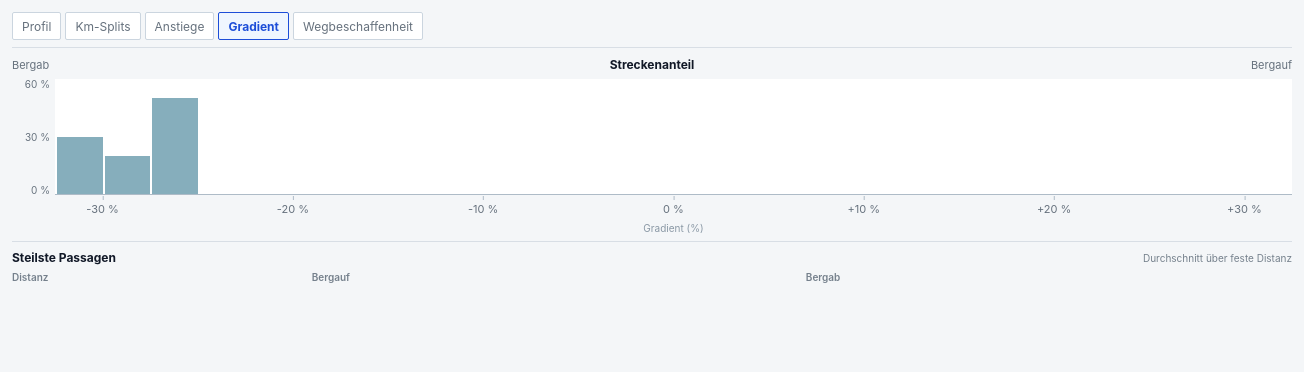
it: RouteAnalysis › combines selected gradient bins into route statistics
Click the button named "10 bis 12.5 %" at (80, 136), box [57,79,102,194]
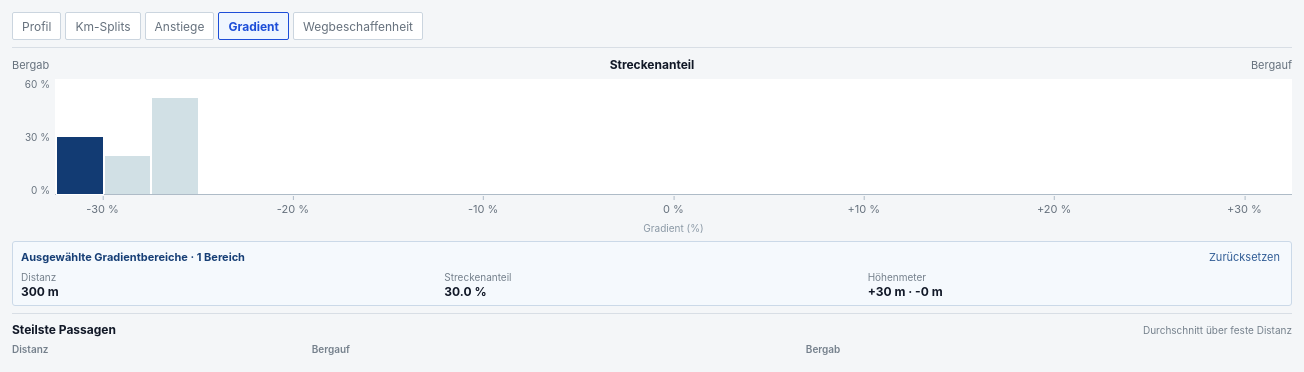
Click the button named "25 bis 27.5 %" at (127, 136), box [104,79,150,194]
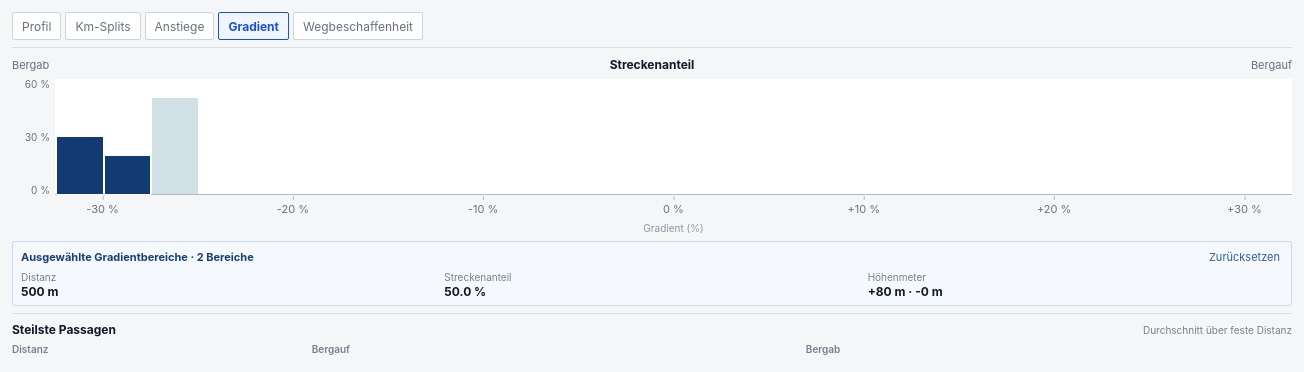
Expected: the element "Ausgewählte Gradientbereiche" shows "2 Bereiche", [197,250,254,264]
Expected: the element "Ausgewählte Gradientbereiche" shows "500 m", [21,284,58,299]
Expected: the element "Ausgewählte Gradientbereiche" shows "50.0 %", [444,284,486,299]
Click the button "Zurücksetzen" at (1244, 257), box [1206,248,1283,266]
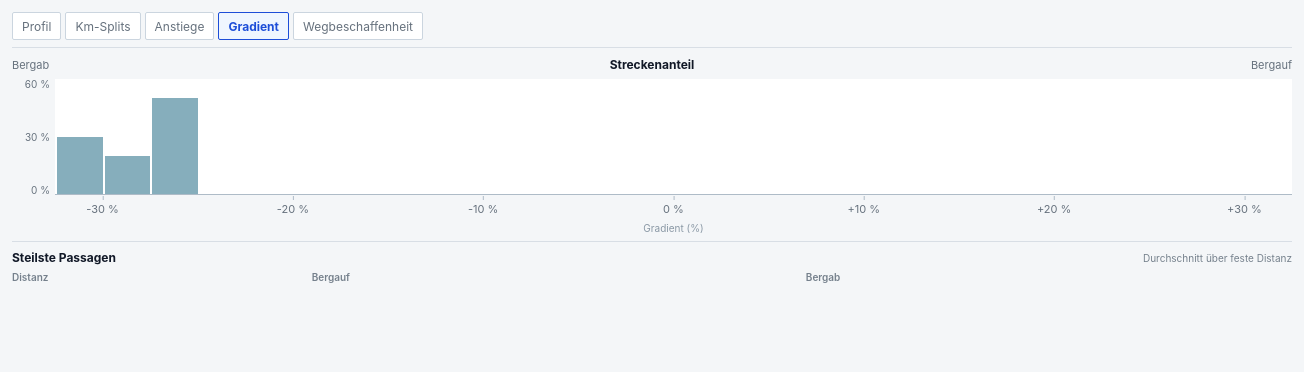
Expected: the text "Ausgewählte Gradientbereiche" is gone
